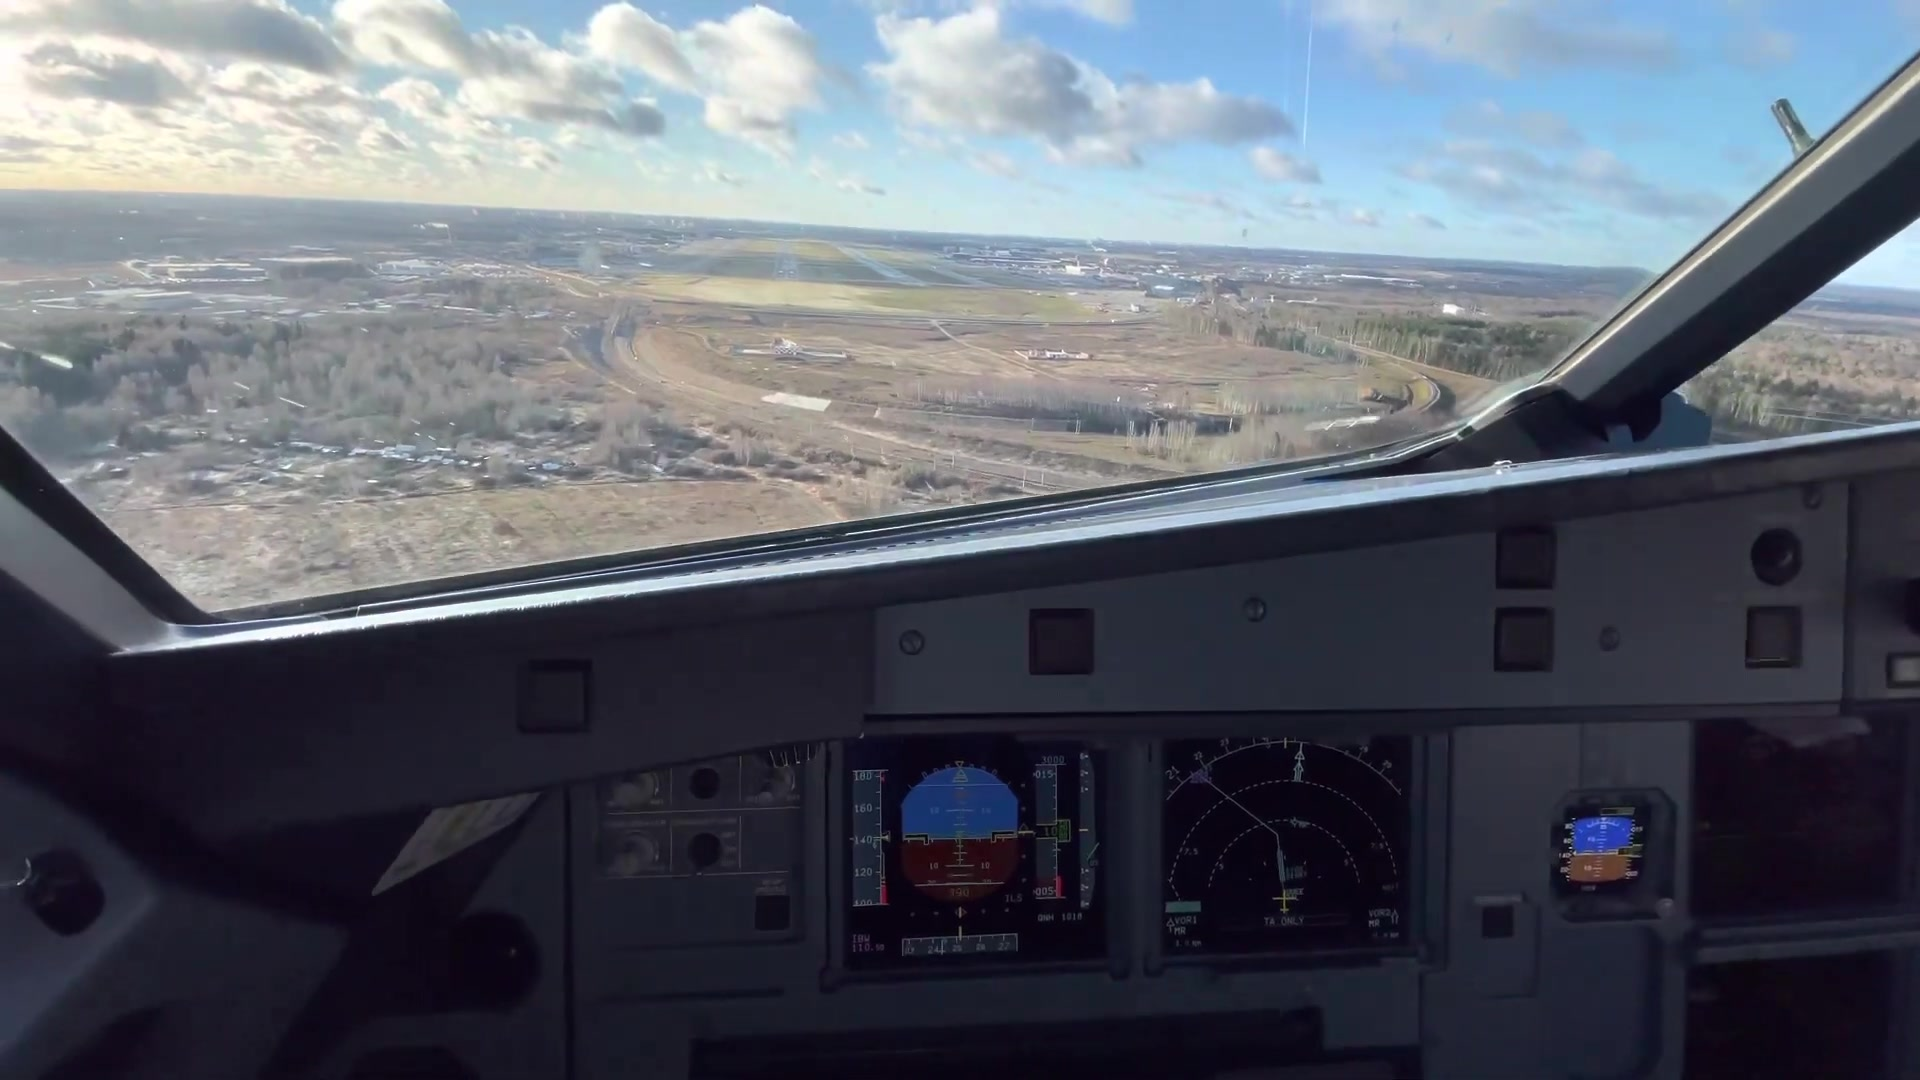runway: (831, 247, 928, 285), (770, 243, 802, 280)
